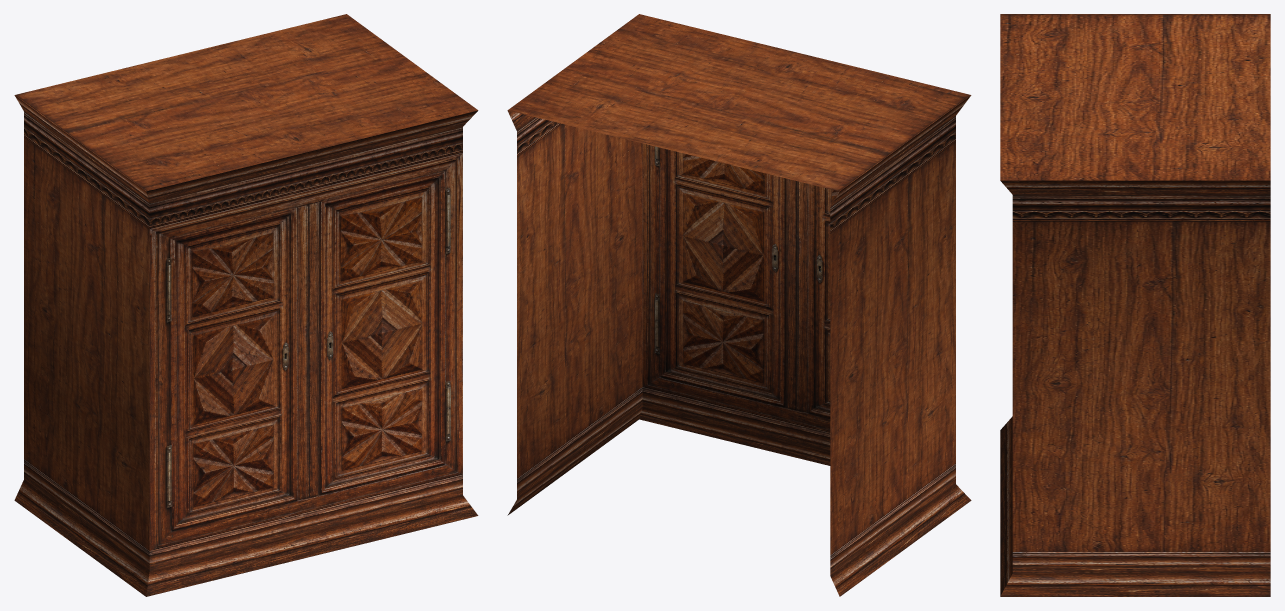
Rendered from mm9_deco_cabinet05ns.glb.
The picture shows the model from 3 angles, left to right: view 1: azimuth 30°, elevation 25°; view 2: azimuth 150°, elevation 25°; view 3: azimuth 270°, elevation 25°; orthographic projection. The views are drawn at different scales.
Visible parts, largest first — view 1: Cabinet05ns; view 2: Cabinet05ns; view 3: Cabinet05ns.
Boxes of the visible parts, bbox=[...] form: Cabinet05ns: bbox=[14, 14, 478, 596]; Cabinet05ns: bbox=[507, 14, 971, 596]; Cabinet05ns: bbox=[1000, 14, 1270, 596].
Bounding box in the file's own units: 2.76 × 3.22 × 1.9.
1 material, 1 textured.
